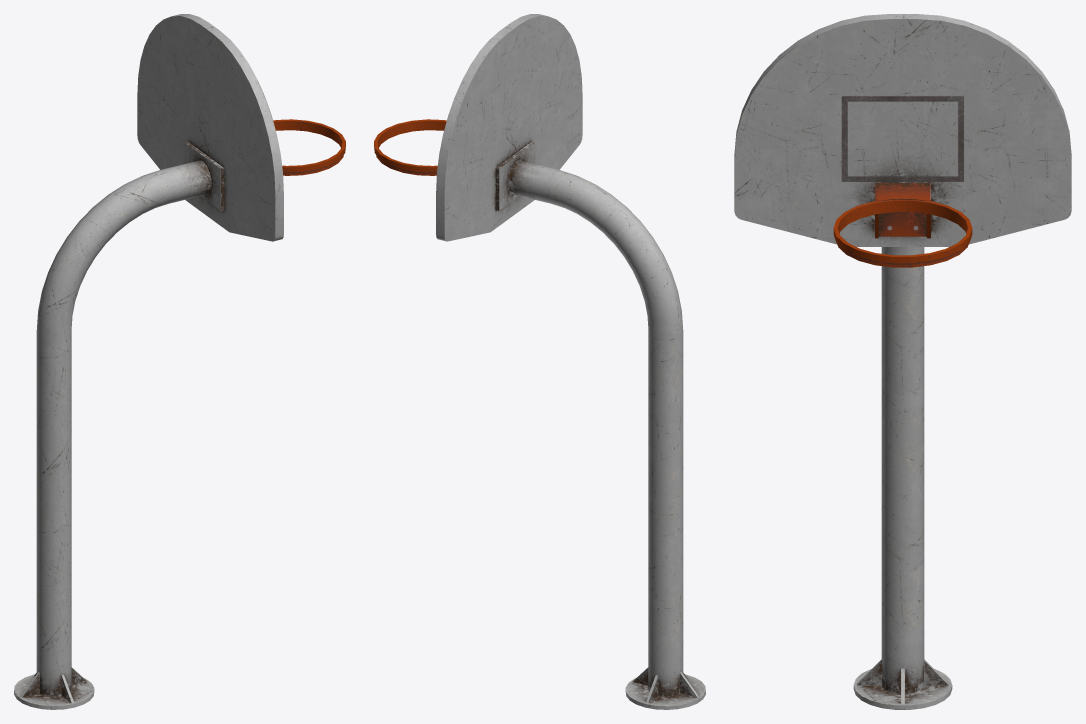
File: hoop.obj
3 renders of one model, left to right at view 1: azimuth 30°, elevation 25°; view 2: azimuth 150°, elevation 25°; view 3: azimuth 270°, elevation 25°, orthographic. The views are drawn at different scales.
Parts seen in each view (by area): view 1: Basketball_Hoop_Cylinder; view 2: Basketball_Hoop_Cylinder; view 3: Basketball_Hoop_Cylinder.
Boxes of the visible parts, bbox=[...] form: Basketball_Hoop_Cylinder: bbox=[14, 14, 345, 709]; Basketball_Hoop_Cylinder: bbox=[374, 14, 705, 709]; Basketball_Hoop_Cylinder: bbox=[734, 14, 1071, 709].
Size of the model in its own units: 6.65 by 12.5 by 4.99.
